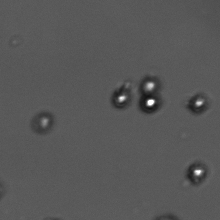Living Cell: (187, 90, 211, 114), (185, 161, 208, 185), (111, 84, 132, 109), (139, 93, 162, 115), (31, 111, 52, 133), (138, 75, 160, 95)
